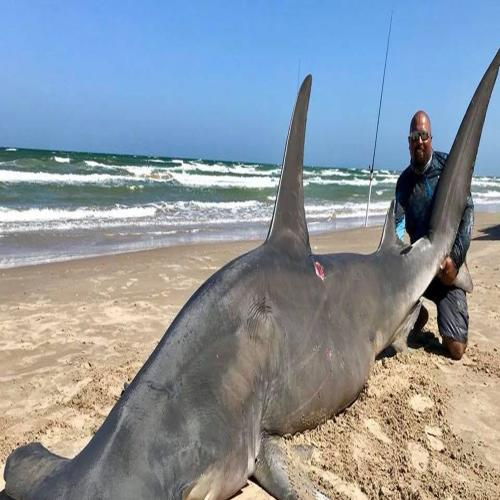shark-endangered: (0, 73, 500, 500)
